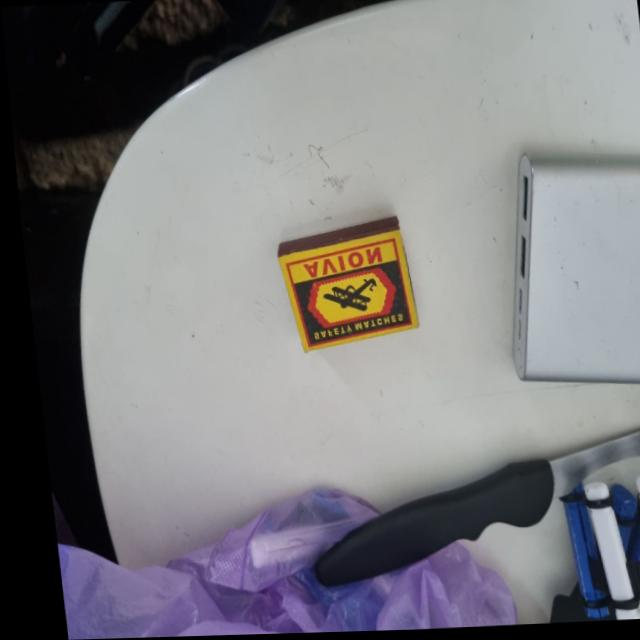match: (267, 209, 416, 358)
